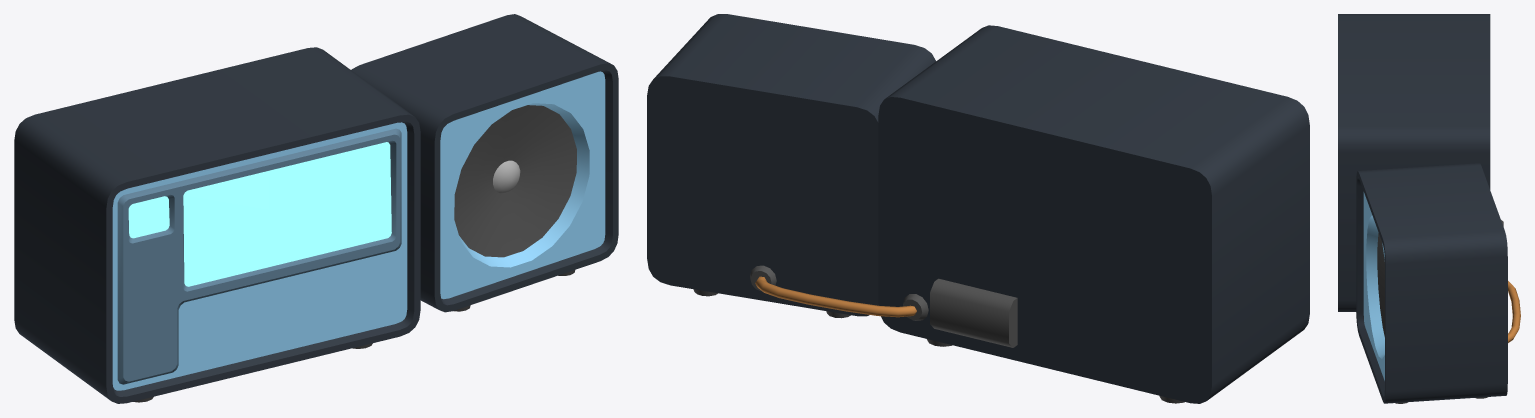
The model's file is Radio.fbx.
3 views of the same model, side by side, from view 1: azimuth 30°, elevation 25°; view 2: azimuth 150°, elevation 25°; view 3: azimuth 270°, elevation 25° (orthographic). The views are drawn at different scales.
Parts seen in each view (by area): view 1: radio_00; view 2: radio_00; view 3: radio_00.
Part boxes in pixels (x1=…): radio_00: x1=14, y1=14, x2=618, y2=403; radio_00: x1=647, y1=14, x2=1309, y2=403; radio_00: x1=1338, y1=14, x2=1520, y2=403.
Bounding box in the file's own units: 34.04 × 13.95 × 12.05.
